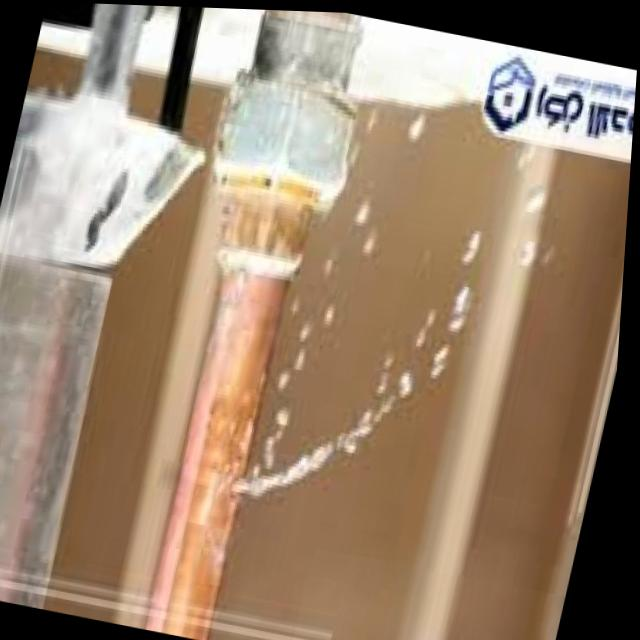leak: (232, 131, 483, 498)
